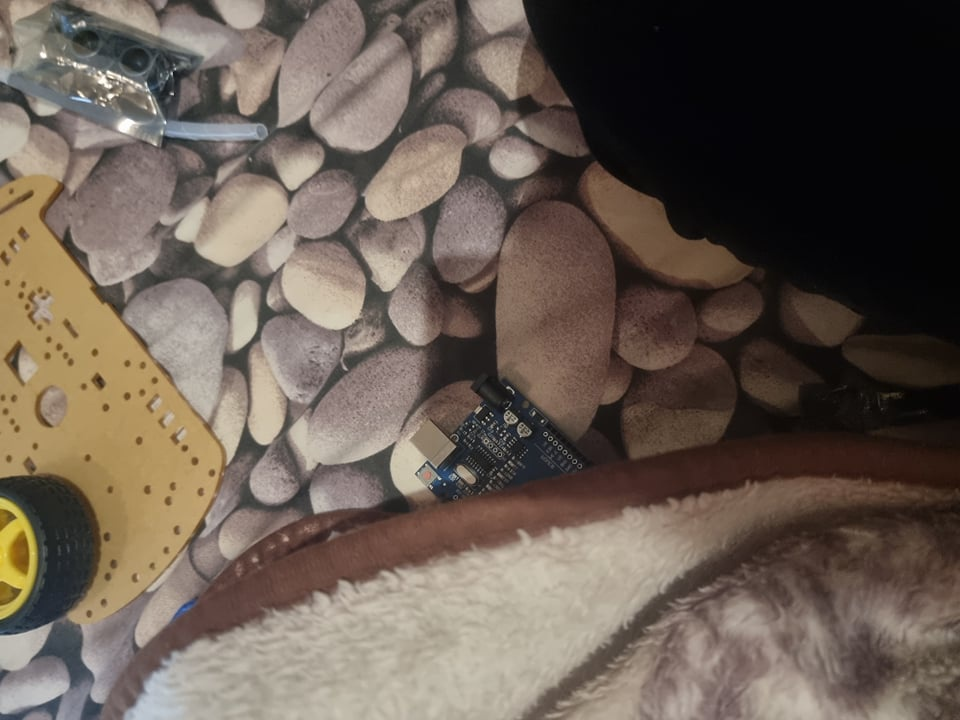5V EXPANSION: (412, 372, 596, 509)
SENSOR: (61, 23, 165, 93)
